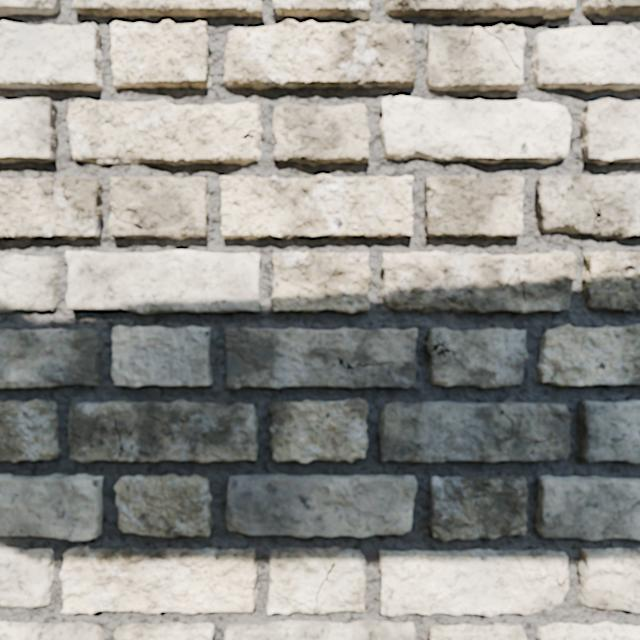crack: (384, 0, 575, 91), (60, 546, 256, 614), (223, 20, 416, 89), (67, 99, 262, 165), (380, 96, 570, 163), (379, 549, 568, 616), (220, 174, 413, 239), (66, 250, 261, 314), (68, 399, 258, 463), (225, 474, 417, 537), (380, 251, 577, 312), (225, 327, 417, 388), (378, 401, 570, 462), (532, 0, 639, 91), (0, 20, 102, 90), (110, 20, 210, 89), (0, 473, 102, 540), (535, 475, 639, 540), (536, 174, 639, 238), (267, 547, 365, 614), (427, 476, 527, 541), (0, 176, 103, 239), (108, 176, 209, 239), (269, 398, 368, 462), (537, 324, 639, 386), (424, 175, 524, 238), (0, 327, 103, 388), (270, 251, 371, 313), (426, 327, 528, 388), (114, 474, 211, 538), (111, 326, 212, 387), (273, 103, 370, 165), (578, 547, 639, 612), (580, 98, 639, 165), (577, 400, 639, 463), (0, 399, 60, 462), (0, 98, 57, 163), (225, 620, 416, 639), (0, 253, 59, 312), (582, 250, 639, 311), (72, 0, 262, 17), (0, 547, 53, 607), (273, 0, 371, 19), (0, 622, 104, 639), (536, 622, 639, 639), (114, 622, 214, 639), (429, 624, 526, 639), (0, 0, 60, 16)
